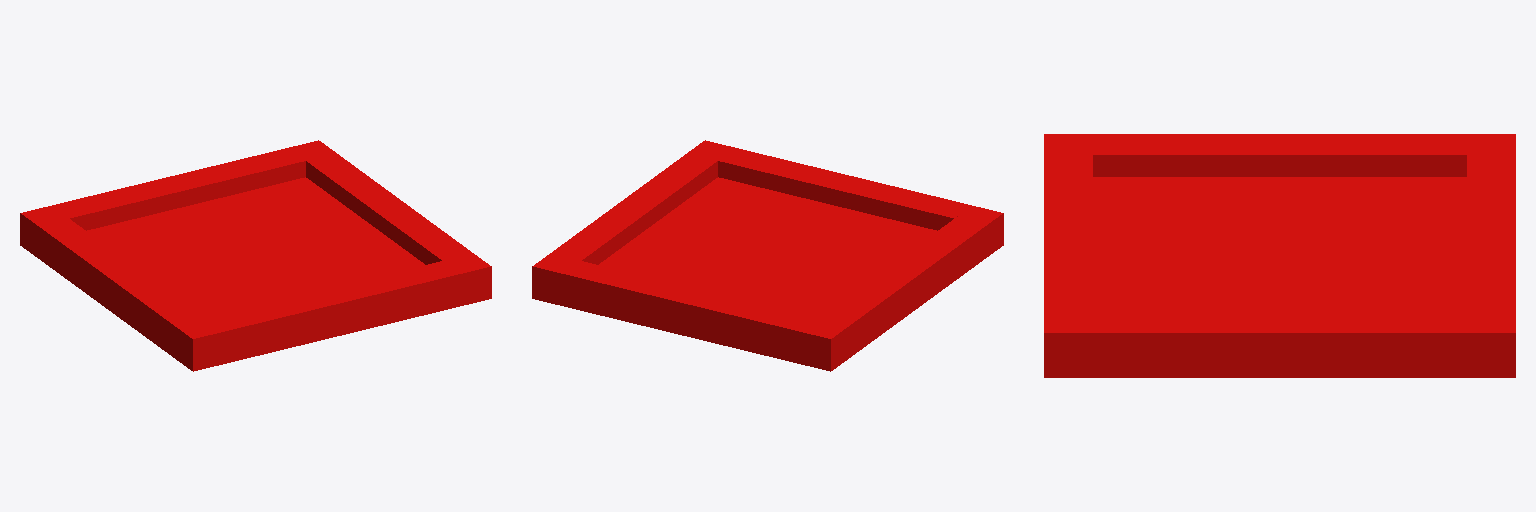
URDF robot description (puzzle_base):
<?xml version="1.0"?>
<robot name="puzzle_base">
	<material name="block_wood">
		<color rgba="0.93 0.086 0.071 1" />
	</material>
	<link name="base_link">
		<visual>
			<origin xyz="0.000000000000e+00 0.000000000000e+00 3.000000000000e-03" rpy="0.000000000000e+00 -0.000000000000e+00 0.000000000000e+00" />
			<geometry>
				<box size="9.150000000000e-02 9.150000000000e-02 6.000000000000e-03" />
			</geometry>
			<material name="block_wood"/>
		</visual>
		<visual>
			<origin xyz="0.000000000000e+00 5.175000000000e-02 6.000000000000e-03" rpy="0.000000000000e+00 -0.000000000000e+00 0.000000000000e+00" />
			<geometry>
				<box size="9.150000000000e-02 1.200000000000e-02 1.200000000000e-02" />
			</geometry>
			<material name="block_wood"/>
		</visual>
		<visual>
			<origin xyz="0.000000000000e+00 -5.175000000000e-02 6.000000000000e-03" rpy="0.000000000000e+00 -0.000000000000e+00 0.000000000000e+00" />
			<geometry>
				<box size="9.150000000000e-02 1.200000000000e-02 1.200000000000e-02" />
			</geometry>
			<material name="block_wood"/>
		</visual>
		<visual>
			<origin xyz="5.175000000000e-02 0.000000000000e+00 6.000000000000e-03" rpy="0.000000000000e+00 -0.000000000000e+00 0.000000000000e+00" />
			<geometry>
				<box size="1.200000000000e-02 1.155000000000e-01 1.200000000000e-02" />
			</geometry>
			<material name="block_wood"/>
		</visual>
		<visual>
			<origin xyz="-5.175000000000e-02 0.000000000000e+00 6.000000000000e-03" rpy="0.000000000000e+00 -0.000000000000e+00 0.000000000000e+00" />
			<geometry>
				<box size="1.200000000000e-02 1.155000000000e-01 1.200000000000e-02" />
			</geometry>
			<material name="block_wood"/>
		</visual>
		<collision>
			<origin xyz="0.000000000000e+00 0.000000000000e+00 3.000000000000e-03" rpy="0.000000000000e+00 -0.000000000000e+00 0.000000000000e+00" />
			<geometry>
				<box size="9.150000000000e-02 9.150000000000e-02 6.000000000000e-03" />
			</geometry>
		</collision>
		<collision>
			<origin xyz="0.000000000000e+00 5.175000000000e-02 6.000000000000e-03" rpy="0.000000000000e+00 -0.000000000000e+00 0.000000000000e+00" />
			<geometry>
				<box size="9.150000000000e-02 1.200000000000e-02 1.200000000000e-02" />
			</geometry>
		</collision>
		<collision>
			<origin xyz="0.000000000000e+00 -5.175000000000e-02 6.000000000000e-03" rpy="0.000000000000e+00 -0.000000000000e+00 0.000000000000e+00" />
			<geometry>
				<box size="9.150000000000e-02 1.200000000000e-02 1.200000000000e-02" />
			</geometry>
		</collision>
		<collision>
			<origin xyz="5.175000000000e-02 0.000000000000e+00 6.000000000000e-03" rpy="0.000000000000e+00 -0.000000000000e+00 0.000000000000e+00" />
			<geometry>
				<box size="1.200000000000e-02 1.155000000000e-01 1.200000000000e-02" />
			</geometry>
		</collision>
		<collision>
			<origin xyz="-5.175000000000e-02 0.000000000000e+00 6.000000000000e-03" rpy="0.000000000000e+00 -0.000000000000e+00 0.000000000000e+00" />
			<geometry>
				<box size="1.200000000000e-02 1.155000000000e-01 1.200000000000e-02" />
			</geometry>
		</collision>
		<inertial>
			<mass value="0.021969900000000001" />
			<origin xyz="0.000000000000e+00 0.000000000000e+00 4.628118471181e-03" />
			<inertia ixx="2.8805287159783239e-05" ixy="0" ixz="0" iyy="2.8805287159783243e-05" iyz="0" izz="4.3988737331249997e-05" />
		</inertial>
	</link>
<gazebo reference="base_link">
  <visual><material>
    <ambient>0.651 0.602 0.497 1</ambient>
    <diffuse>0.651 0.602 0.497 1</diffuse>
    <emmisive>0.279 0.258 0.213 1</emmisive>
  </material></visual>
</gazebo>
<!-- fixed to world -->
<link name="world"/>
<joint name="world_to_base_link" type="fixed">
  <parent link="world"/>
  <child  link="base_link"/>
</joint>
</robot>

--- Facts derived from the render (not from the file) ---
3 views of the same robot in one strip: view 1: azimuth 30°, elevation 25°; view 2: azimuth 150°, elevation 25°; view 3: azimuth 270°, elevation 25° (orthographic).
Robot: puzzle_base — 2 links, 1 joints (1 fixed); root link world; default pose: every joint at zero.
Visible links, largest first — view 1: base_link; view 2: base_link; view 3: base_link.
Boxes of the visible links, x1,y1,x2,y2 form: base_link: [20, 140, 491, 371]; base_link: [532, 140, 1003, 371]; base_link: [1044, 134, 1515, 377].
Bounding box of the posed robot: 0.1155 × 0.1155 × 0.012 m (x, y, z).
Geometry: primitives only (box / cylinder / sphere), no mesh files.